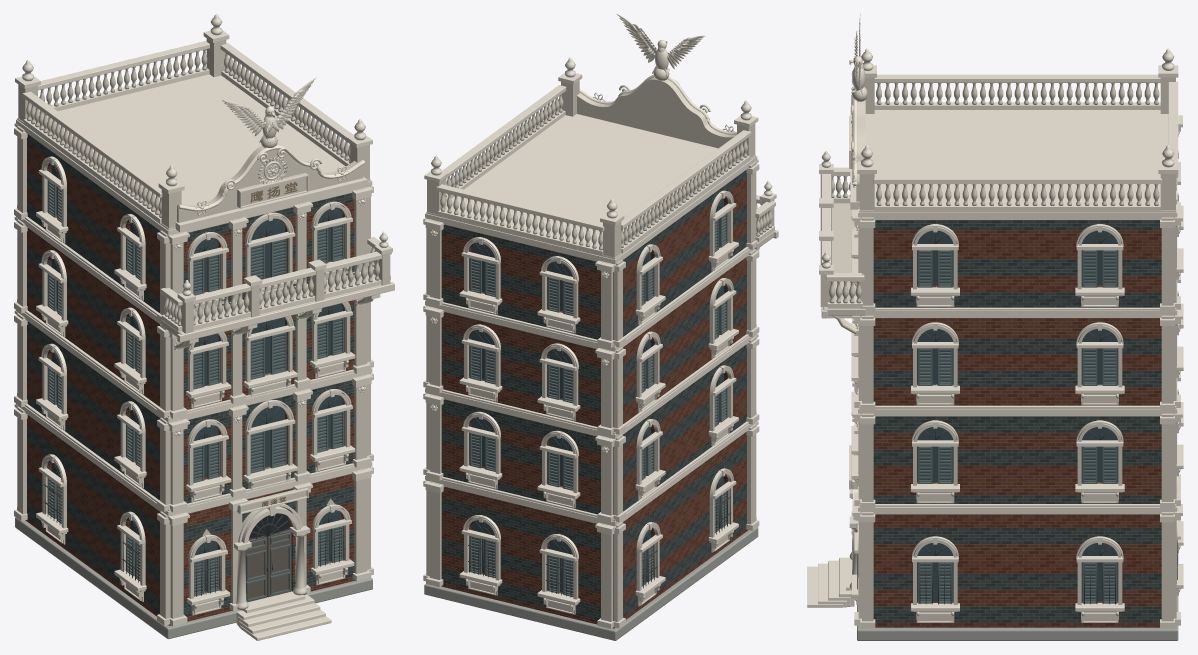
Rendered from yingyangtang.glb.
The picture shows the model from 3 angles, left to right: view 1: azimuth 30°, elevation 25°; view 2: azimuth 150°, elevation 25°; view 3: azimuth 270°, elevation 25°; orthographic projection. The views are drawn at different scales.
Visible parts, largest first — view 1: 00_Foundation__Pale cornice edges, 01_Floor_1__Ivory lime plaster / 米白灰塑, 01_Floor_1__Red and blue-gray brick bands, 01_Floor_1__Weathered shutter timber, 01_Floor_1__Dark glazing, 00_Foundation__Stone plinth, 01_Floor_1__Dark iron grilles, 01_Floor_1__Entrance hardwood, 01_Floor_1__Recess dark interior; view 2: 01_Floor_1__Red and blue-gray brick bands, 00_Foundation__Pale cornice edges, 01_Floor_1__Ivory lime plaster / 米白灰塑, 01_Floor_1__Weathered shutter timber, 01_Floor_1__Dark glazing, 00_Foundation__Stone plinth, 01_Floor_1__Dark iron grilles; view 3: 01_Floor_1__Red and blue-gray brick bands, 00_Foundation__Pale cornice edges, 01_Floor_1__Ivory lime plaster / 米白灰塑, 01_Floor_1__Dark glazing, 01_Floor_1__Weathered shutter timber, 00_Foundation__Stone plinth, 01_Floor_1__Dark iron grilles.
Boxes of the visible parts, x1,y1,x2,y2 form: 00_Foundation__Pale cornice edges: [14, 14, 394, 640]; 01_Floor_1__Ivory lime plaster / 米白灰塑: [17, 38, 391, 618]; 01_Floor_1__Red and blue-gray brick bands: [25, 134, 354, 625]; 01_Floor_1__Weathered shutter timber: [47, 180, 344, 601]; 01_Floor_1__Dark glazing: [51, 165, 342, 591]; 00_Foundation__Stone plinth: [15, 517, 372, 639]; 01_Floor_1__Dark iron grilles: [44, 165, 345, 596]; 01_Floor_1__Entrance hardwood: [245, 529, 291, 602]; 01_Floor_1__Recess dark interior: [249, 110, 290, 538]; 01_Floor_1__Red and blue-gray brick bands: [441, 170, 748, 628]; 00_Foundation__Pale cornice edges: [423, 14, 778, 628]; 01_Floor_1__Ivory lime plaster / 米白灰塑: [426, 41, 775, 621]; 01_Floor_1__Weathered shutter timber: [469, 213, 727, 596]; 01_Floor_1__Dark glazing: [471, 198, 723, 592]; 00_Foundation__Stone plinth: [424, 527, 758, 640]; 01_Floor_1__Dark iron grilles: [468, 198, 730, 597]; 01_Floor_1__Red and blue-gray brick bands: [873, 220, 1161, 627]; 00_Foundation__Pale cornice edges: [807, 14, 1183, 628]; 01_Floor_1__Ivory lime plaster / 米白灰塑: [820, 59, 1180, 622]; 01_Floor_1__Dark glazing: [917, 230, 1118, 601]; 01_Floor_1__Weathered shutter timber: [918, 250, 1117, 603]; 00_Foundation__Stone plinth: [857, 553, 1178, 640]; 01_Floor_1__Dark iron grilles: [857, 232, 1177, 604].
Size of the model in its own units: 7.22 by 16.82 by 10.43.
10 materials, 1 textured.
